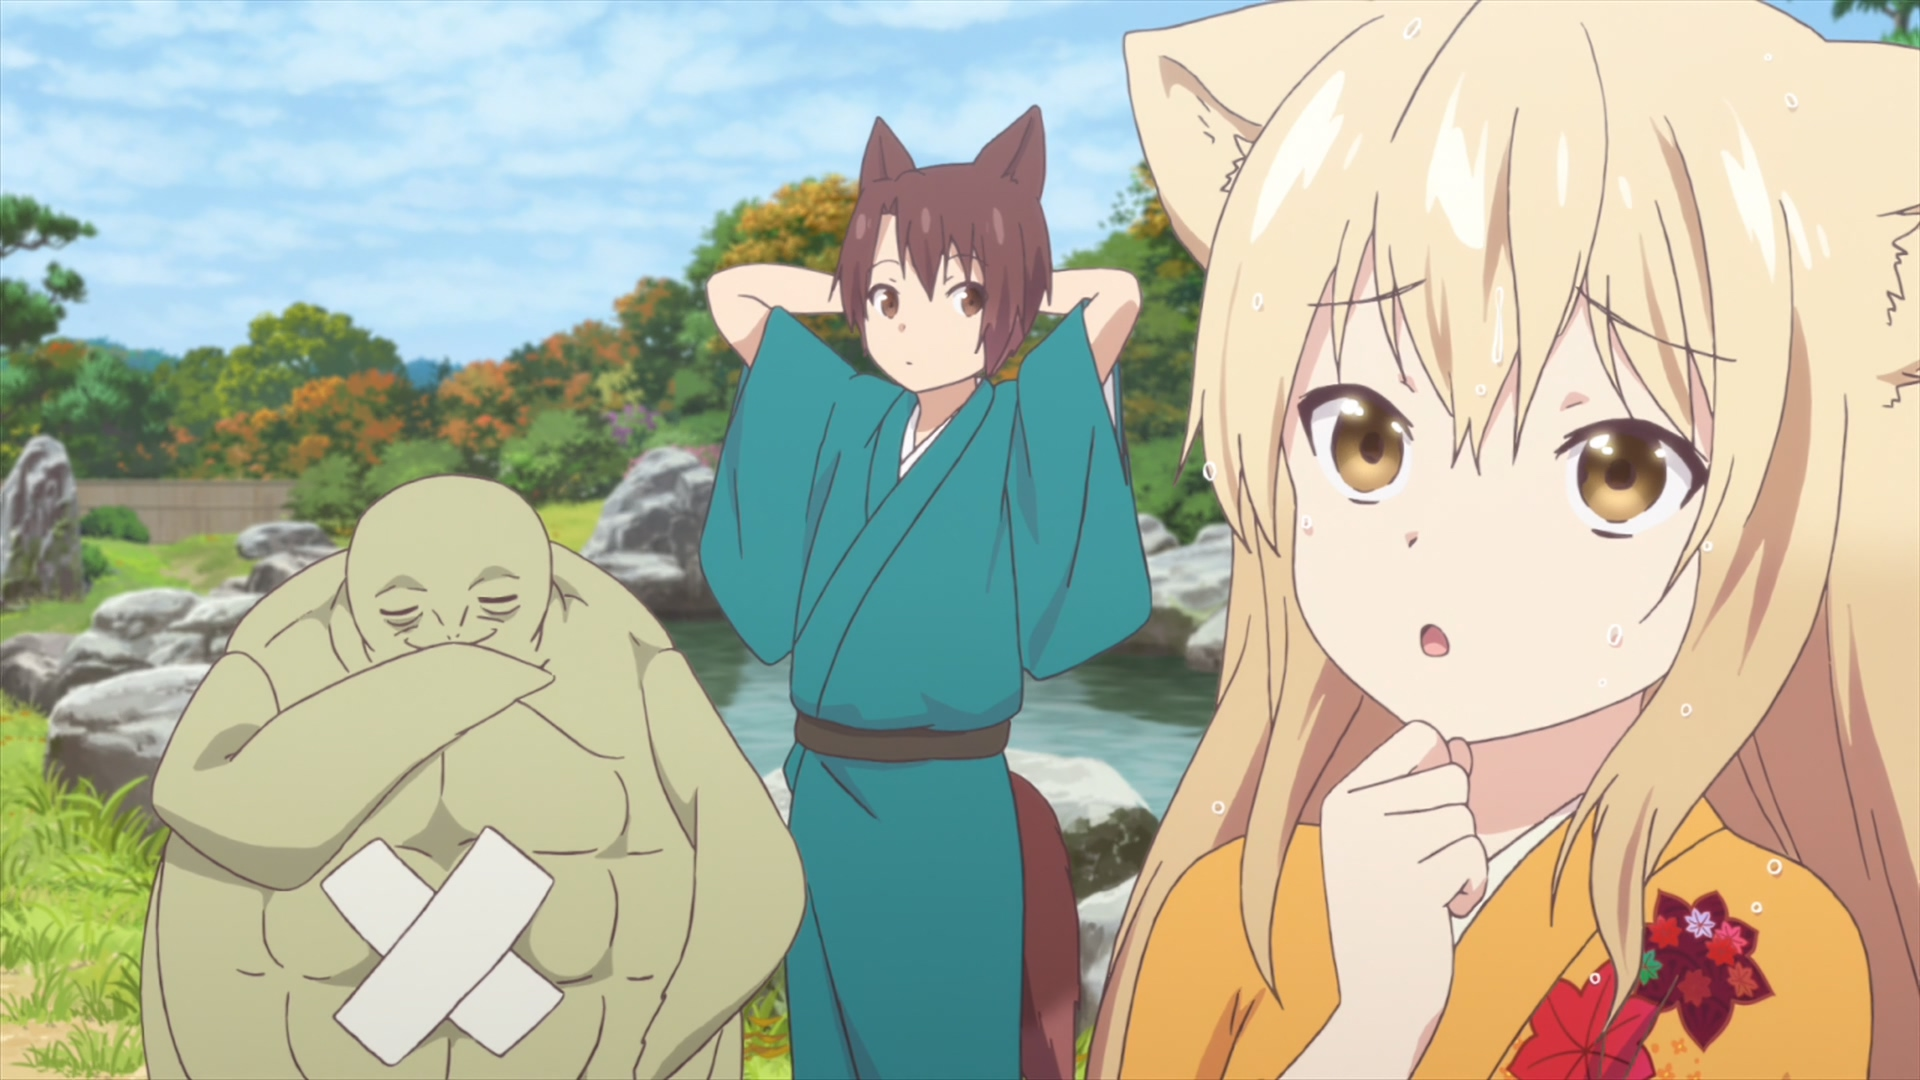其他: (141, 475, 804, 1080)
枣: (700, 104, 1151, 1080)
柚: (1083, 1, 1920, 1080)
